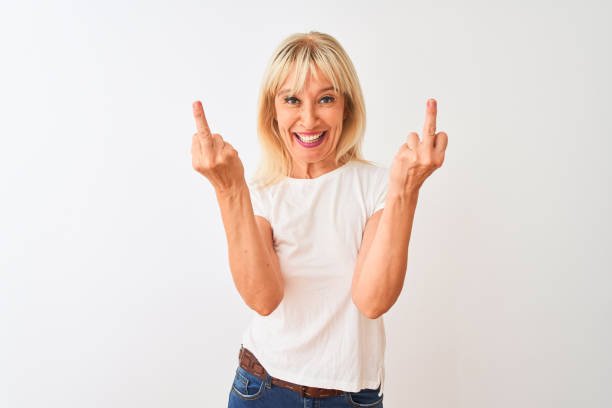insulting_gesture: (388, 98, 449, 186), (191, 99, 245, 189)
